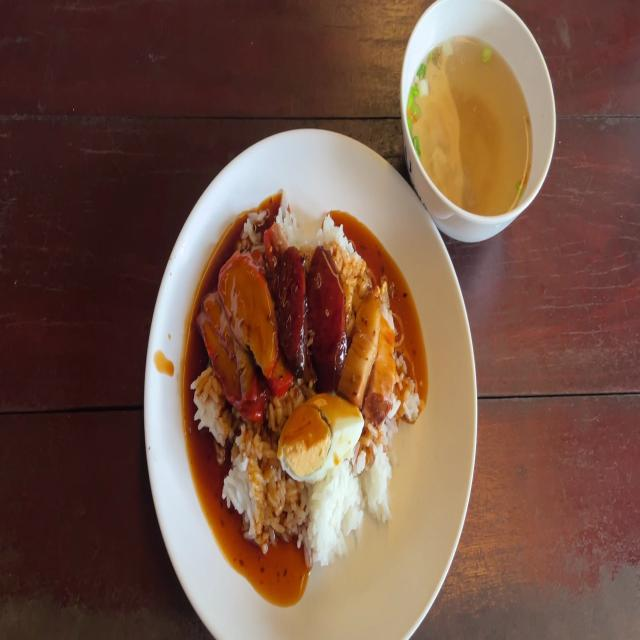01boiled_egg: (280, 393, 360, 481)
01chainese_sausage: (312, 248, 344, 393), (276, 245, 309, 364)
01crispy_pork: (342, 290, 394, 411)
01red_pork: (197, 252, 276, 412)
01red_pork_and_crispy_pork: (194, 202, 420, 567)
01rice: (309, 474, 363, 556), (230, 441, 274, 534), (369, 444, 390, 521)
